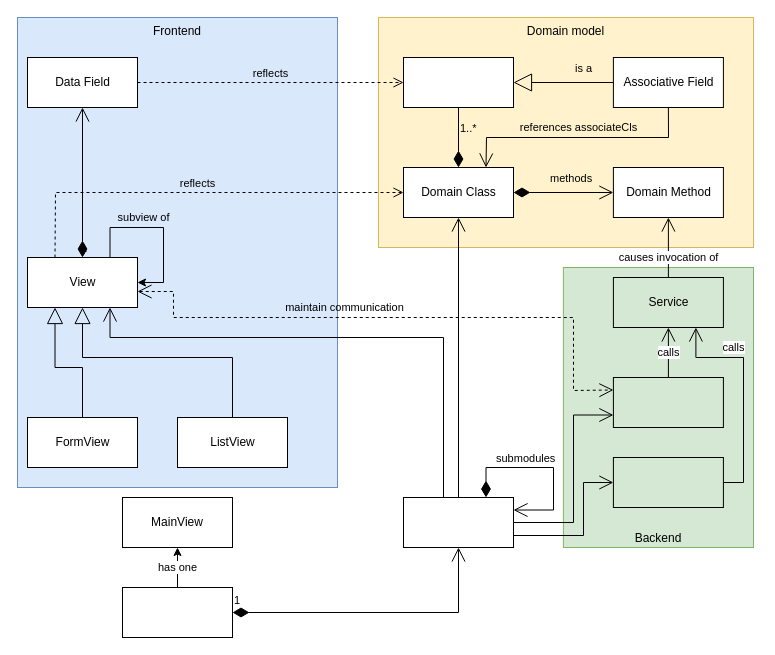
This 775x655 diagram has some shape labels left out. Each missing label, with the centre of its shape:
Associate Controller: point 667,482
Controller: point 667,402
Domain Field: point 458,82
Module: point 458,522
Software: point 177,612
